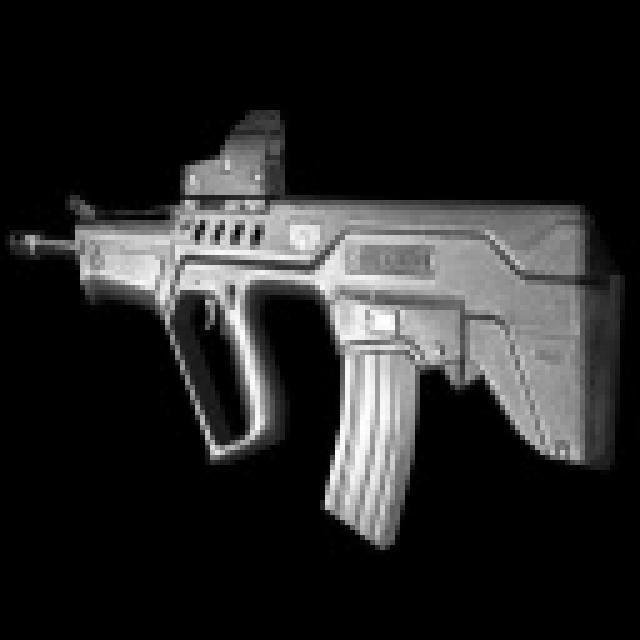Rifle: (7, 86, 640, 564)
